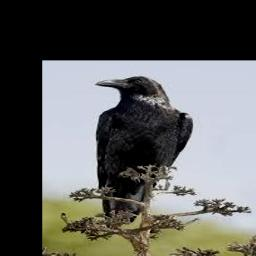Crow: (95, 76, 192, 230)
